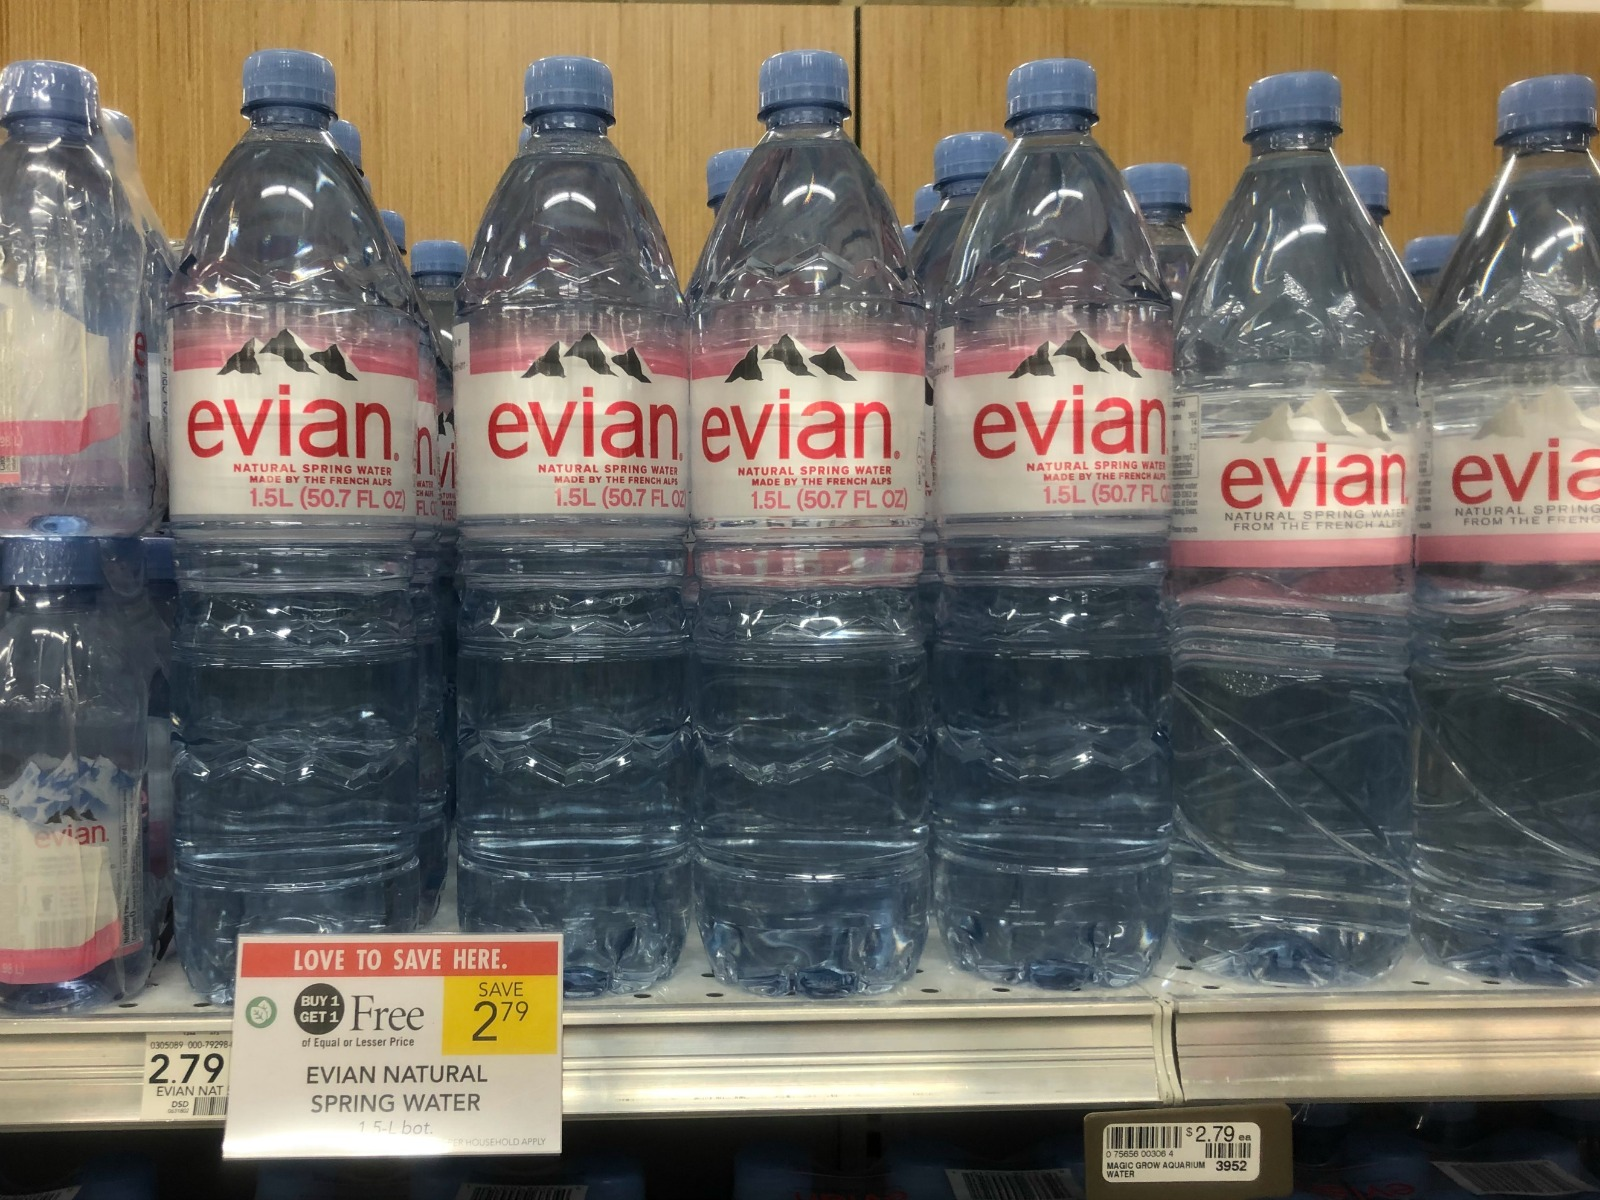evian: (170, 45, 451, 979), (929, 49, 1179, 984), (1182, 63, 1420, 974), (464, 55, 690, 984), (690, 55, 916, 981)
